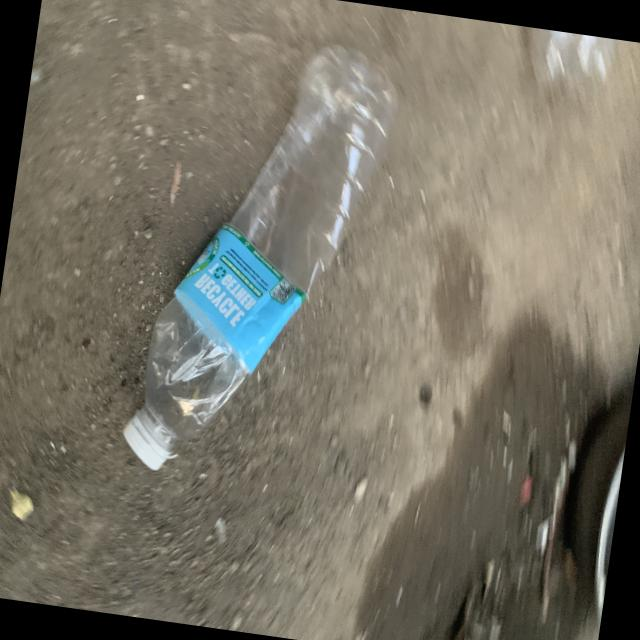Bottle: (124, 45, 395, 469)
